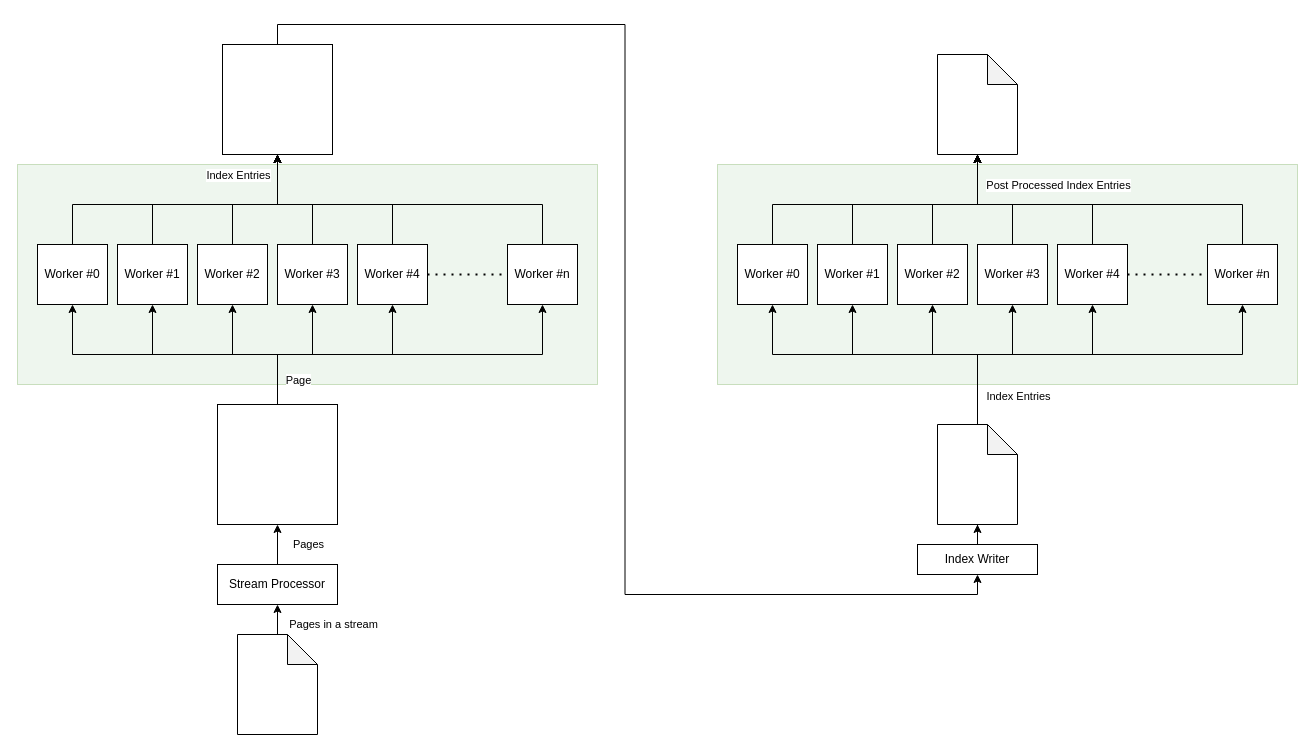
The diagram is 1315 pixels wide and 752 high, and some of its shapes have lost their labels. The shapes that lost their labels are listed below. From the top down, each one's centre as x and y in pixels, then its label:
point (277, 99): Index Entry queue
point (977, 104): Final JSON Index
point (277, 464): Page Queue
point (977, 474): Temp Index
point (277, 684): Wiki XML file/ files
